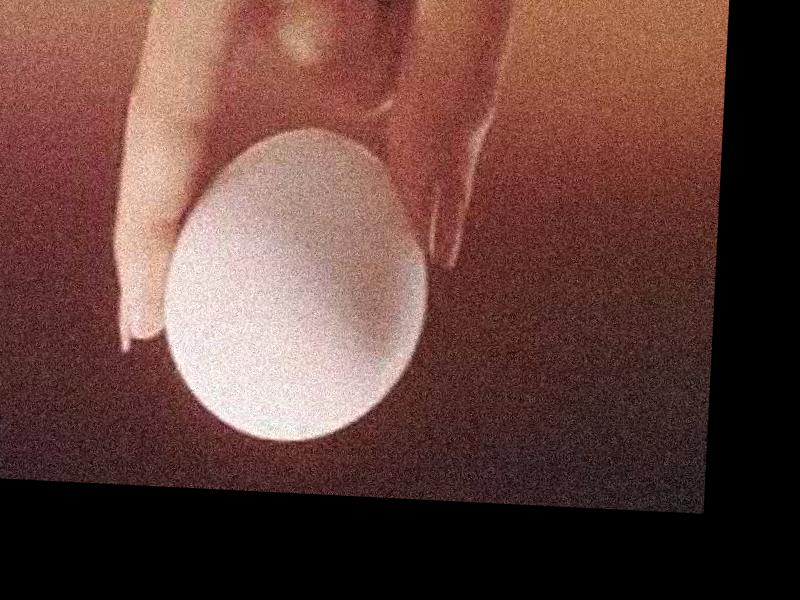Eggs: (154, 120, 436, 449)
